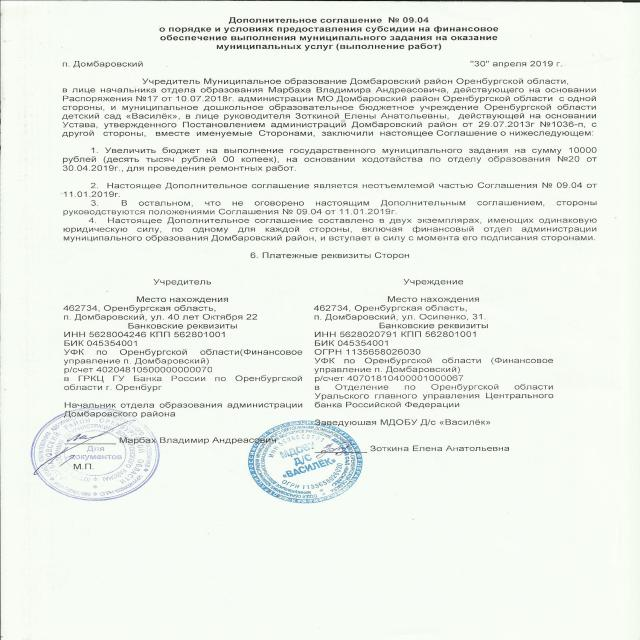stamps: (21, 366, 160, 547), (219, 374, 374, 533)
